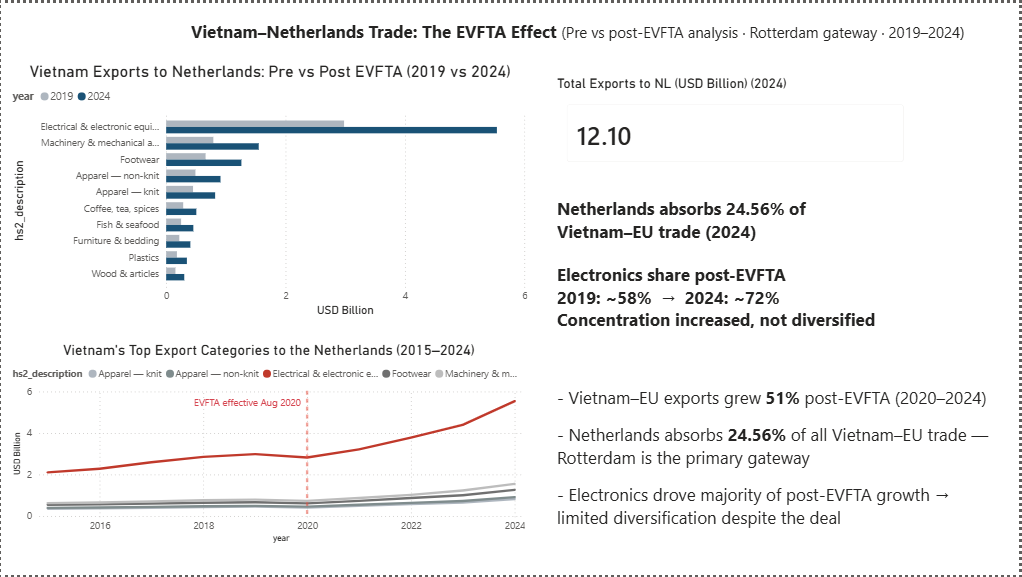

The dashboard page shown, as its layout file describes it:
{"tool":"powerbi","page":{"name":"Netherlands","canvas":[1280,720],"ordinal":2},"visuals":[{"type":"clusteredBarChart","title":"Vietnam Exports to Netherlands: Pre vs Post EVFTA (2019 vs 2024)","fields":{"Category":["clean_combined.hs2_description"],"Y":["Sum(clean_combined.trade_value_billion)"],"Series":["clean_combined.year"]},"box":[9.7,74.5,657.5,325.5],"z":0},{"type":"lineChart","title":"Vietnam''s Top Export Categories to the Netherlands (2015–2024)","fields":{"Category":["clean_combined.year"],"Y":["Sum(clean_combined.trade_value_billion)"],"Series":["clean_combined.hs2_description"]},"box":[9.7,425.9,654.3,257.5],"z":1000},{"type":"textbox","box":[693.5,475.6,559.9,208.4],"z":2000},{"type":"cardVisual","title":"Total Exports to NL (USD Billion) (2024)","fields":{"Data":["Sum(clean_combined.trade_value_billion)"]},"box":[694.3,90.6,458.5,126.4],"z":3000},{"type":"textbox","box":[233.2,14.6,1012.2,45.3],"z":4000},{"type":"textbox","box":[694.3,237.7,458.5,67.9],"z":5000},{"type":"textbox","box":[694.3,320.8,458.5,105.7],"z":6000}]}

Visuals, with their boxes in screenshot pixels (x1, y1, x2, y2), scaled from the page's 1280x720 canvas onto the 1022x577 screenshot:
"Vietnam Exports to Netherlands: Pre vs Post EVFTA (2019 vs 2024)" clusteredBarChart: (8,60,533,321)
"Vietnam''s Top Export Categories to the Netherlands (2015–2024)" lineChart: (8,341,530,548)
textbox: (554,381,1001,548)
"Total Exports to NL (USD Billion) (2024)" cardVisual: (554,73,920,174)
textbox: (186,12,994,48)
textbox: (554,190,920,245)
textbox: (554,257,920,342)
